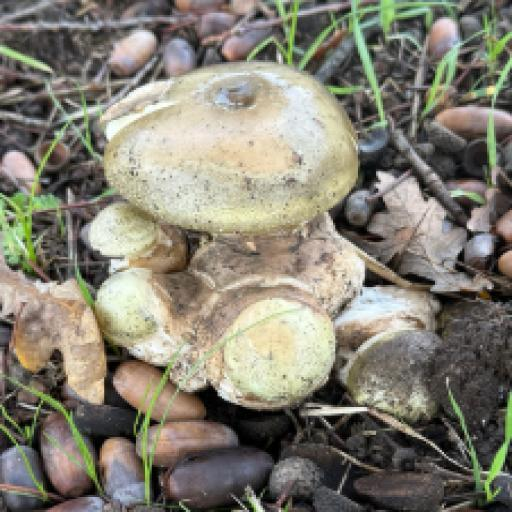mushroom: (76, 55, 380, 420)
